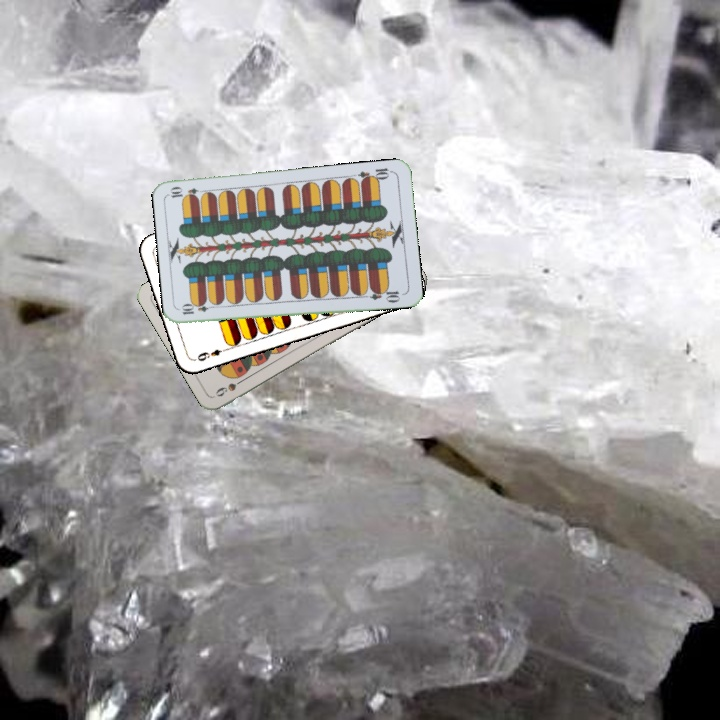E10: (355, 164, 395, 185), (178, 300, 218, 317)
E9: (191, 344, 230, 364)
S9: (211, 373, 249, 399)
